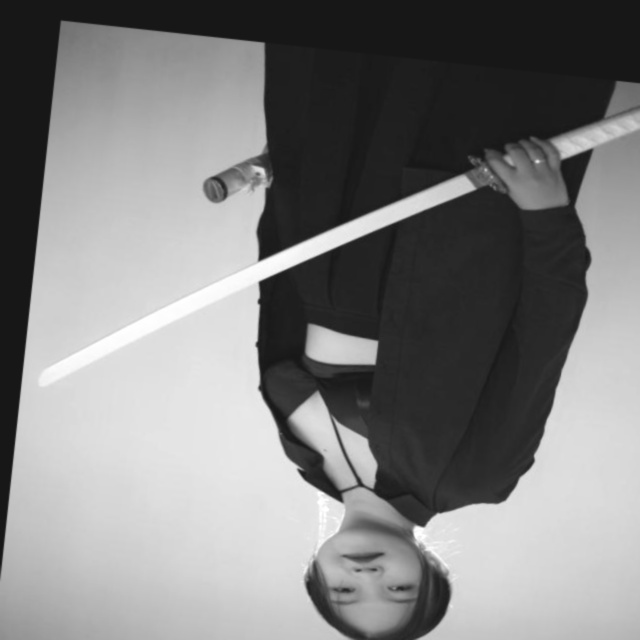Sharp-Object: (20, 21, 640, 463)
